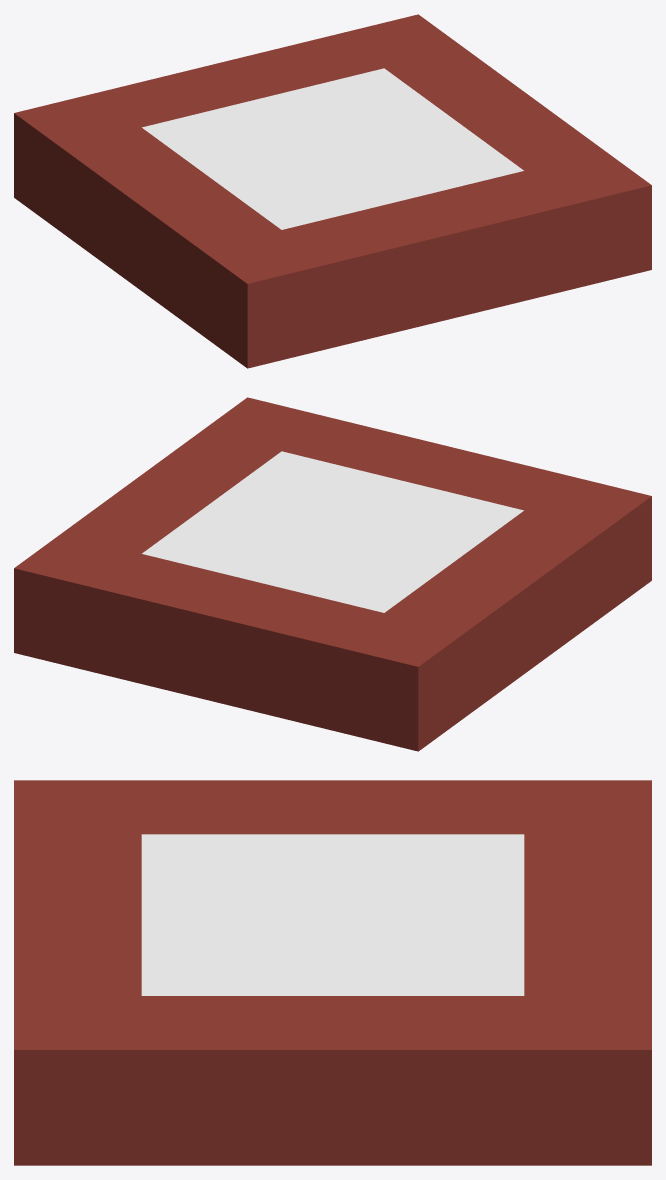
File: TowerPlace.obj
3 views of the same model, one above another, from view 1: azimuth 30°, elevation 25°; view 2: azimuth 150°, elevation 25°; view 3: azimuth 270°, elevation 25° (orthographic). The views are drawn at different scales.
Size of the model in its own units: 0.5 by 0.1 by 0.5.
1 material, 1 textured.
